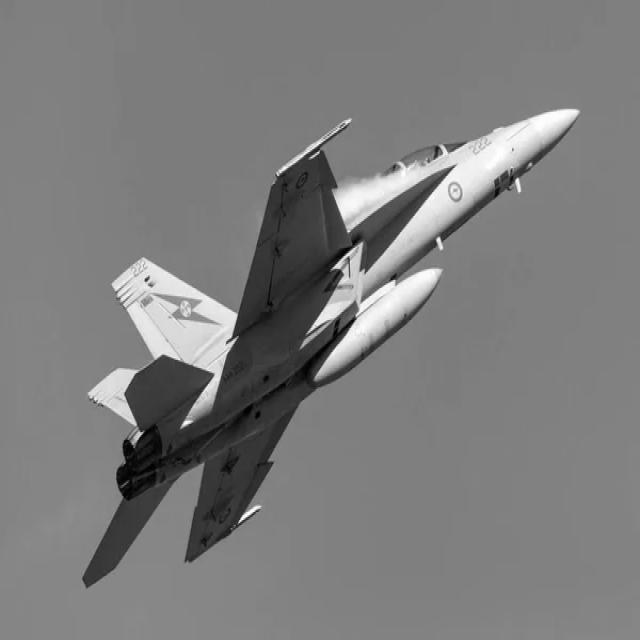Aircraft: (68, 75, 584, 592)
